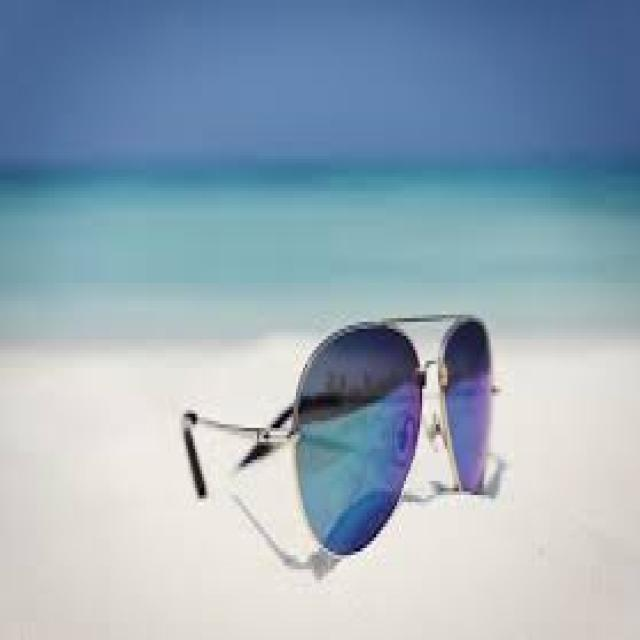sunglasses: (288, 307, 501, 558)
